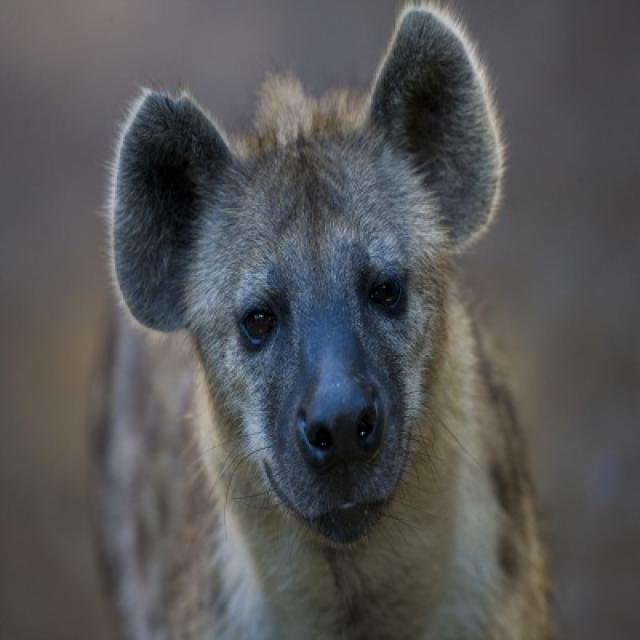hyena: (94, 5, 563, 638)
